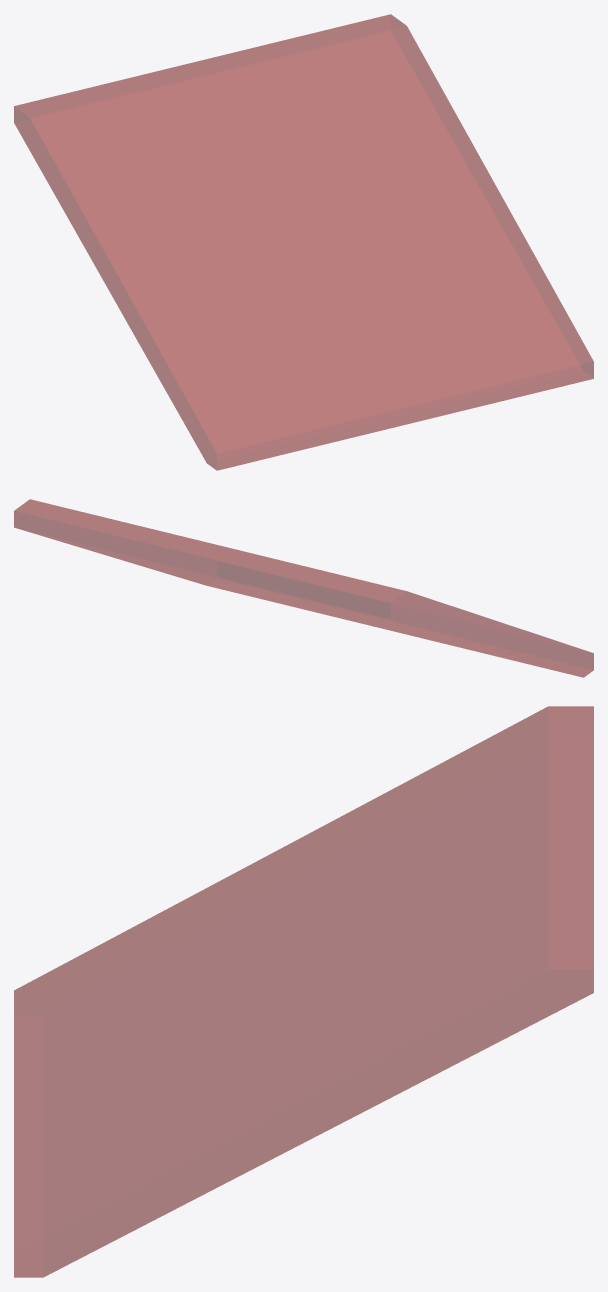
Rendered from SM_Bld_Base_Stairs_Ornate_02_Collision.fbx.
3 renders of one model, top to bottom at view 1: azimuth 30°, elevation 25°; view 2: azimuth 150°, elevation 25°; view 3: azimuth 270°, elevation 25°, orthographic. The views are drawn at different scales.
Visible parts, largest first — view 1: SM_Bld_Base_Stairs_Ornate_02_Collision; view 2: SM_Bld_Base_Stairs_Ornate_02_Collision; view 3: SM_Bld_Base_Stairs_Ornate_02_Collision.
Boxes of the visible parts, x1,y1,x2,y2 form: SM_Bld_Base_Stairs_Ornate_02_Collision: (14, 14, 593, 470); SM_Bld_Base_Stairs_Ornate_02_Collision: (14, 499, 593, 677); SM_Bld_Base_Stairs_Ornate_02_Collision: (14, 706, 593, 1277).
Bounding box in the file's own units: 273 × 150 × 255.
